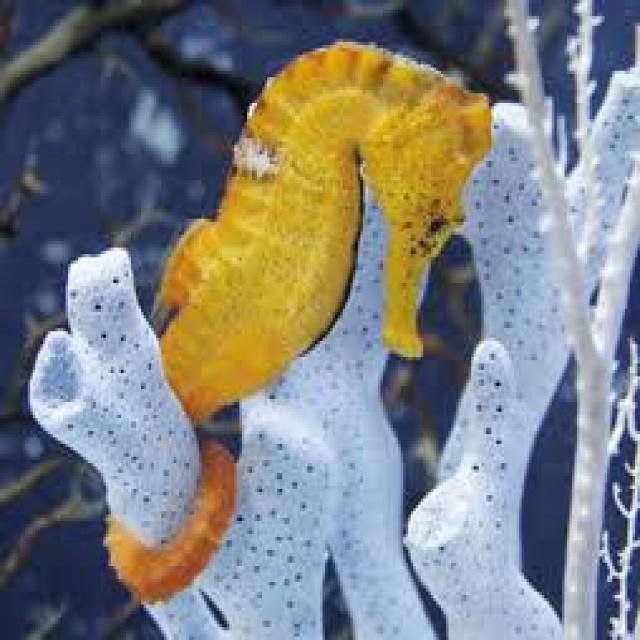SeaHorse: (106, 41, 494, 604)
